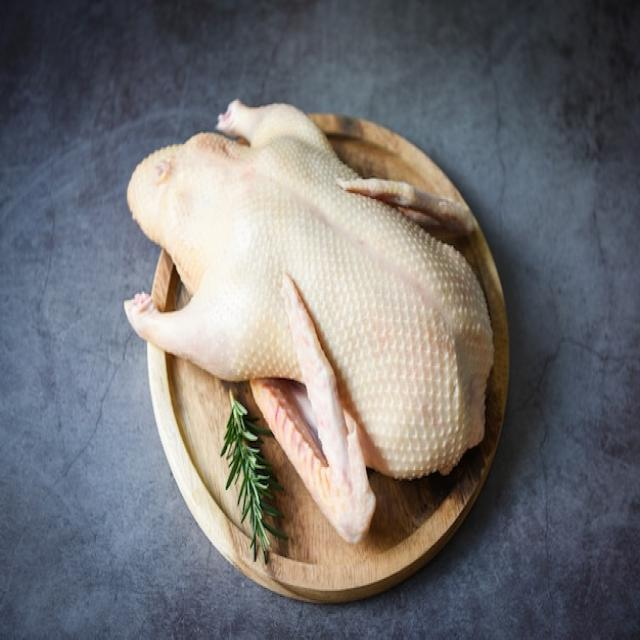duck: (126, 101, 492, 478)
